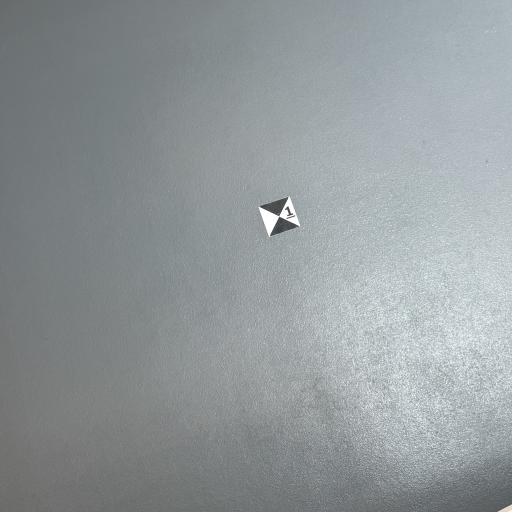target1: (259, 195, 300, 236)
